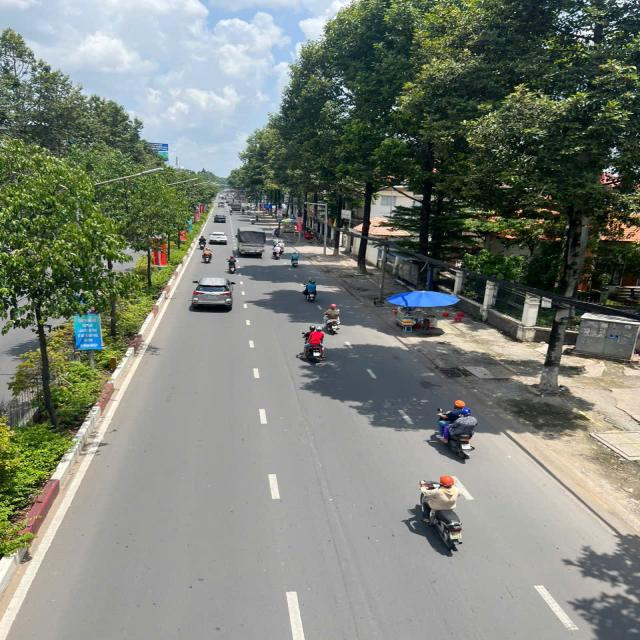Dump Truck: (233, 202, 242, 212)
Truck: (238, 228, 268, 258)
car: (190, 276, 236, 311), (208, 232, 228, 245), (215, 214, 228, 223), (219, 202, 226, 207)
motobyte: (440, 396, 481, 464), (429, 478, 466, 552), (297, 328, 323, 367), (328, 304, 340, 336), (306, 280, 318, 306), (203, 250, 213, 264), (290, 253, 299, 267), (197, 237, 207, 249), (229, 257, 235, 274), (276, 243, 282, 259), (280, 238, 286, 254), (250, 216, 256, 225), (255, 214, 260, 222), (230, 210, 234, 217), (242, 210, 246, 215), (248, 210, 251, 216)
